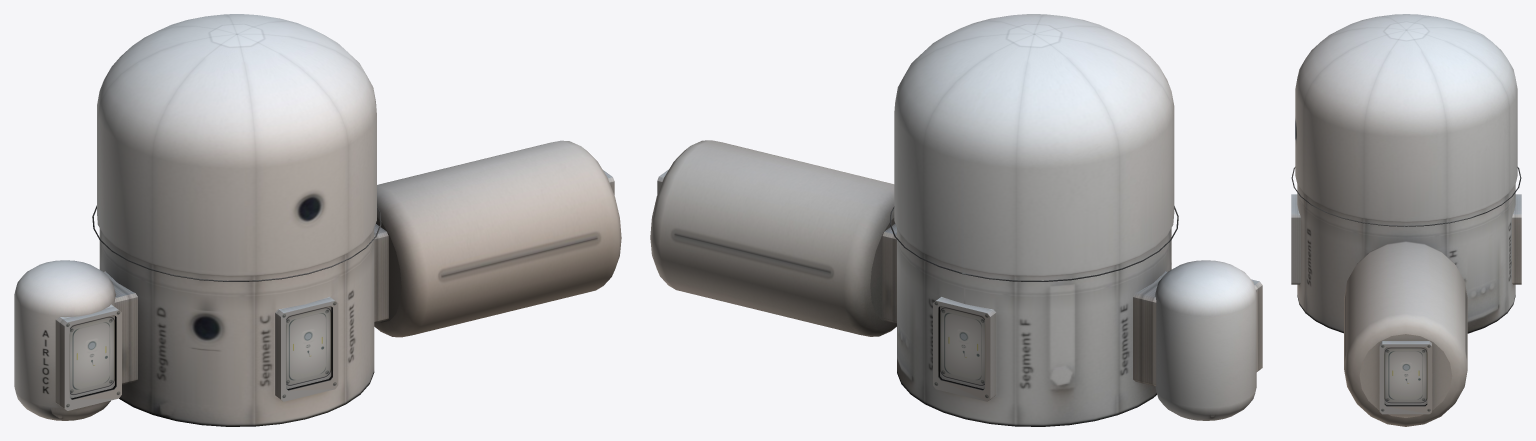
The model's file is hdu.glb.
3 renders of one model, left to right at view 1: azimuth 30°, elevation 25°; view 2: azimuth 150°, elevation 25°; view 3: azimuth 270°, elevation 25°, orthographic. The views are drawn at different scales.
Visible parts, largest first — view 1: HDU_lowRez_part1; view 2: HDU_lowRez_part1; view 3: HDU_lowRez_part1.
Boxes of the visible parts, x1,y1,x2,y2 form: HDU_lowRez_part1: (14,14,621,426); HDU_lowRez_part1: (650,14,1262,426); HDU_lowRez_part1: (1291,14,1521,426).
Bounding box in the file's own units: 380 × 217 × 166.
1 material, 1 textured.
